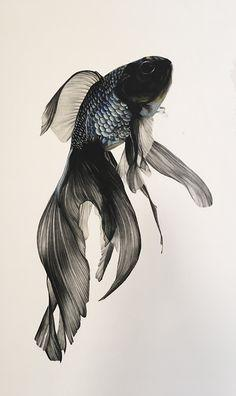goldfish: (24, 45, 223, 364)
